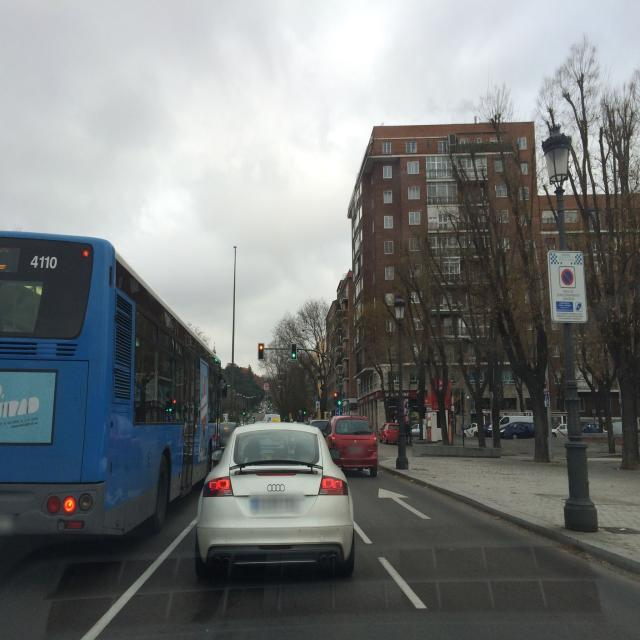forb_stopping: (561, 269, 574, 287)
